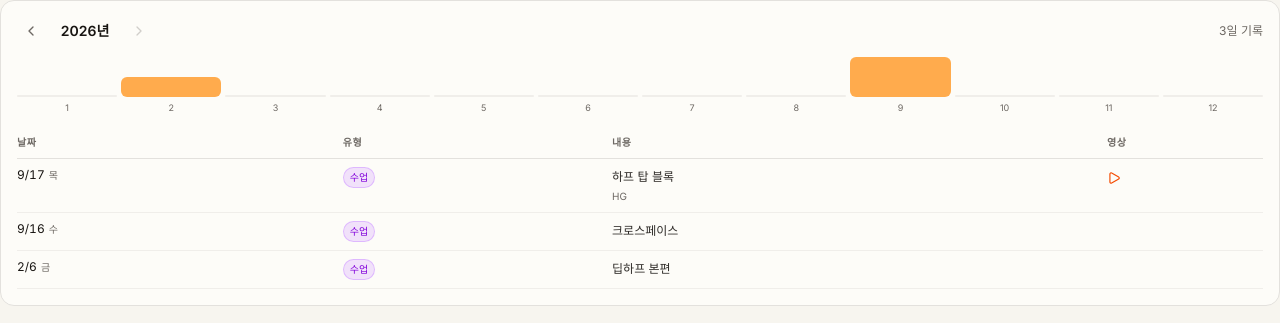
Test: SenseiYearTable › 연도를 이동하면 그 해 기록으로 바뀐다
Click the button named "이전 해": (31, 31) [17,17,45,45]
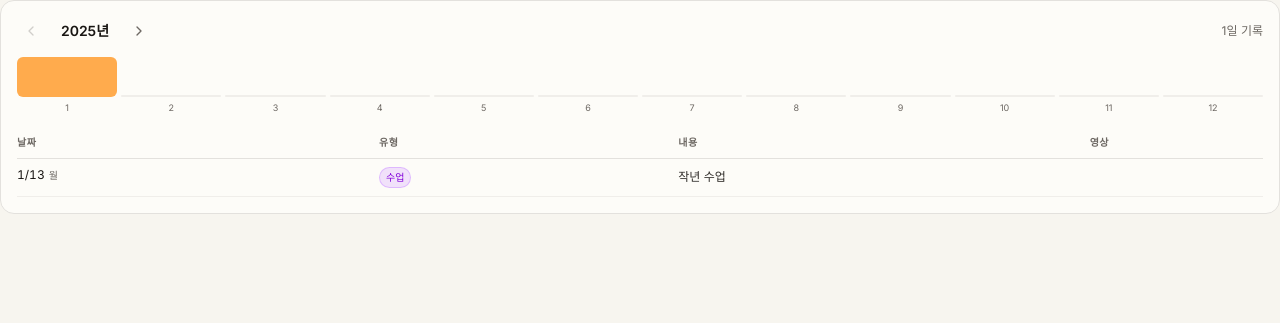
Now the text "2025년" is shown, box [61,22,109,39]
Now the text "작년 수업" is shown, box [678,168,726,184]
Now the text "하프 탑 블록" is gone
